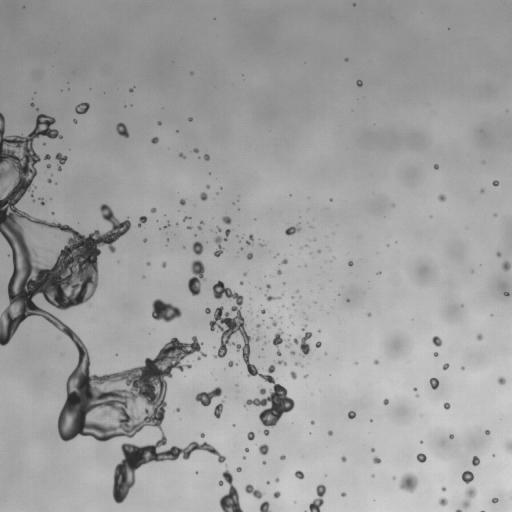droplet: (272, 324, 312, 356), (152, 299, 181, 322), (195, 387, 222, 406), (399, 472, 418, 492), (55, 153, 67, 170), (116, 122, 129, 137), (461, 470, 474, 484), (75, 102, 89, 114), (285, 224, 300, 235), (465, 486, 477, 499), (192, 241, 203, 255), (259, 501, 271, 511), (429, 378, 439, 389), (258, 444, 268, 455), (501, 261, 511, 271), (432, 336, 442, 346), (245, 234, 254, 245), (504, 439, 511, 453), (138, 216, 147, 226), (294, 470, 304, 479), (417, 453, 426, 462), (438, 497, 447, 506), (222, 216, 231, 224), (497, 376, 505, 384), (348, 410, 355, 419), (472, 456, 479, 465), (200, 192, 207, 200), (438, 194, 446, 201), (290, 371, 297, 379), (443, 401, 450, 409), (247, 432, 254, 440), (228, 360, 235, 367), (442, 363, 449, 370), (373, 456, 380, 463), (273, 491, 280, 498), (271, 318, 277, 326), (151, 137, 158, 143), (179, 198, 185, 205), (246, 253, 253, 259), (315, 341, 321, 348), (356, 80, 362, 86), (492, 180, 498, 186), (164, 222, 170, 228), (476, 334, 482, 340), (263, 429, 269, 435), (463, 501, 469, 507), (39, 198, 44, 205), (280, 259, 287, 264), (205, 307, 210, 314), (179, 153, 185, 158), (44, 154, 50, 159), (204, 154, 209, 160), (183, 216, 189, 221), (348, 260, 353, 266), (383, 398, 388, 404), (341, 456, 346, 462), (492, 498, 498, 503), (433, 164, 438, 169), (485, 430, 490, 435), (162, 261, 166, 267), (266, 284, 270, 290), (295, 362, 301, 366), (193, 148, 198, 152), (480, 188, 484, 193), (151, 208, 156, 212), (496, 252, 501, 256), (277, 269, 281, 274), (256, 324, 260, 329), (290, 350, 295, 354), (433, 352, 438, 356), (328, 430, 332, 435), (449, 434, 453, 439), (280, 455, 285, 459), (236, 467, 241, 471), (441, 487, 446, 491), (341, 492, 346, 496), (129, 88, 133, 92), (188, 117, 192, 121), (73, 119, 77, 123), (157, 121, 161, 125), (47, 178, 51, 182), (317, 249, 321, 253), (261, 309, 265, 313), (374, 360, 378, 364), (200, 433, 204, 437), (275, 478, 279, 482), (47, 164, 50, 168), (206, 184, 209, 188), (187, 226, 191, 229), (197, 226, 201, 229), (217, 227, 220, 231), (377, 271, 381, 274), (504, 292, 508, 295), (367, 313, 371, 316), (263, 341, 267, 344), (304, 374, 307, 378), (414, 387, 417, 391), (311, 420, 314, 424), (345, 58, 348, 61), (260, 243, 263, 246), (243, 272, 246, 275), (461, 366, 464, 369), (176, 408, 179, 411), (245, 448, 248, 451), (371, 448, 374, 451), (262, 461, 265, 464), (266, 481, 269, 484), (494, 213, 496, 217), (31, 103, 33, 106), (200, 221, 203, 223), (143, 239, 146, 241), (147, 262, 149, 265), (240, 282, 243, 284), (346, 299, 349, 301), (416, 394, 418, 397), (243, 456, 245, 459), (190, 72, 192, 74), (296, 290, 298, 292), (318, 330, 320, 332), (195, 471, 197, 473)
ligament: (0, 110, 223, 503), (209, 280, 294, 427), (218, 470, 243, 511), (187, 260, 205, 296), (213, 229, 231, 256), (309, 484, 326, 511), (244, 484, 263, 499), (213, 400, 224, 418), (265, 294, 281, 301), (276, 360, 286, 365), (455, 509, 461, 511), (510, 494, 511, 498), (481, 510, 484, 511)
